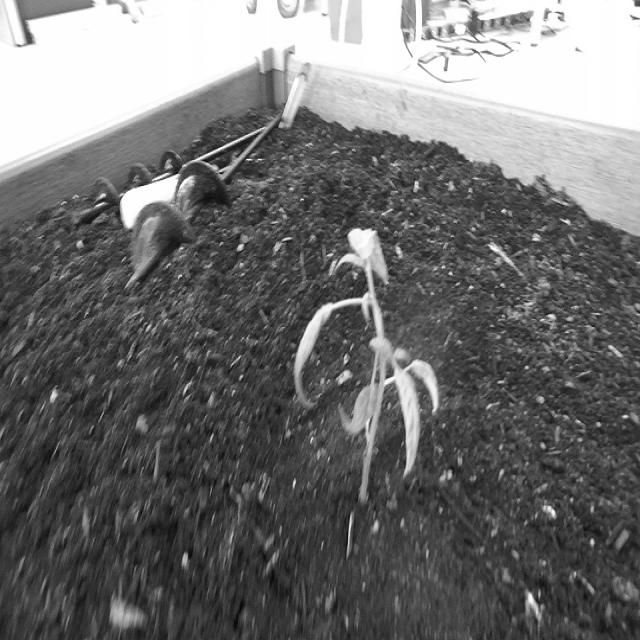Healthy: (291, 218, 446, 518)
